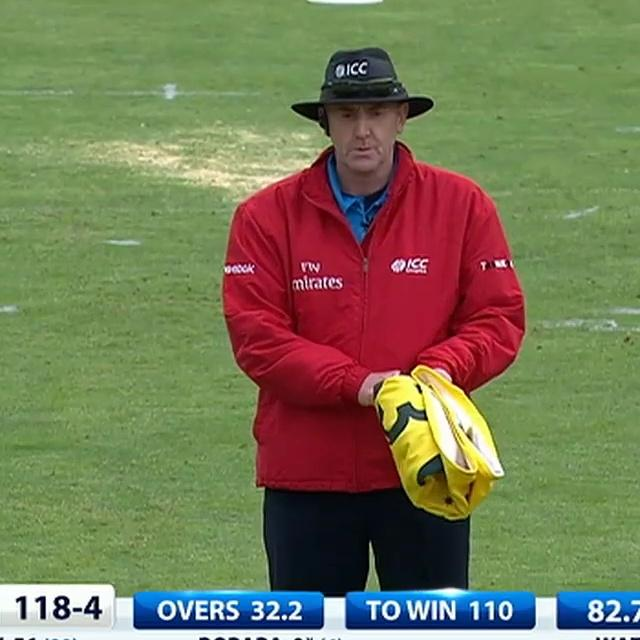umpire: (198, 28, 548, 598)
